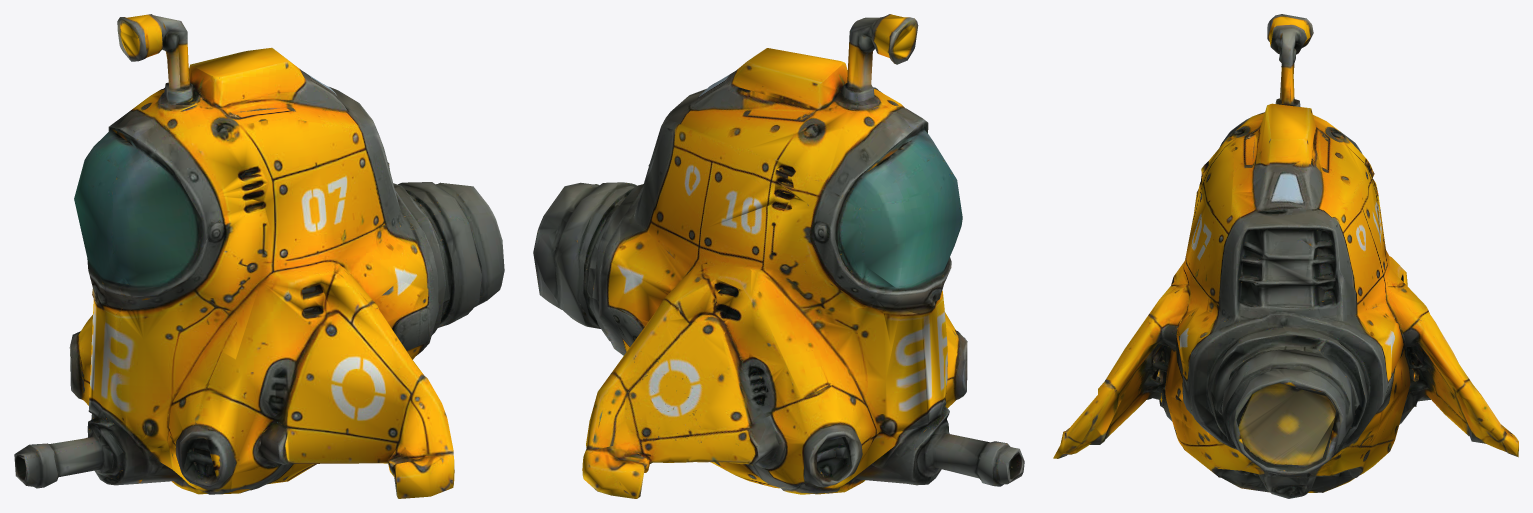
The model's file is diver.glb.
3 views of the same model, side by side, from view 1: azimuth 30°, elevation 25°; view 2: azimuth 150°, elevation 25°; view 3: azimuth 270°, elevation 25° (orthographic). The views are drawn at different scales.
Size of the model in its own units: 1.95 by 2 by 1.98.
1 material, 1 textured.
